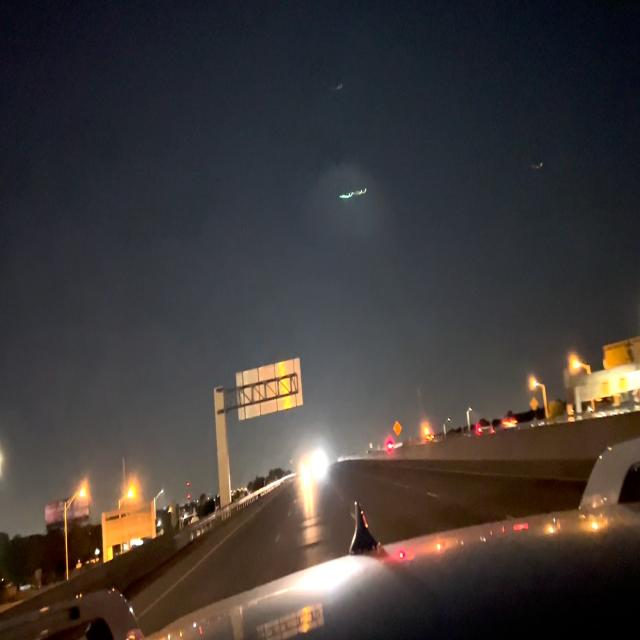back-of-sign: (233, 359, 304, 423)
